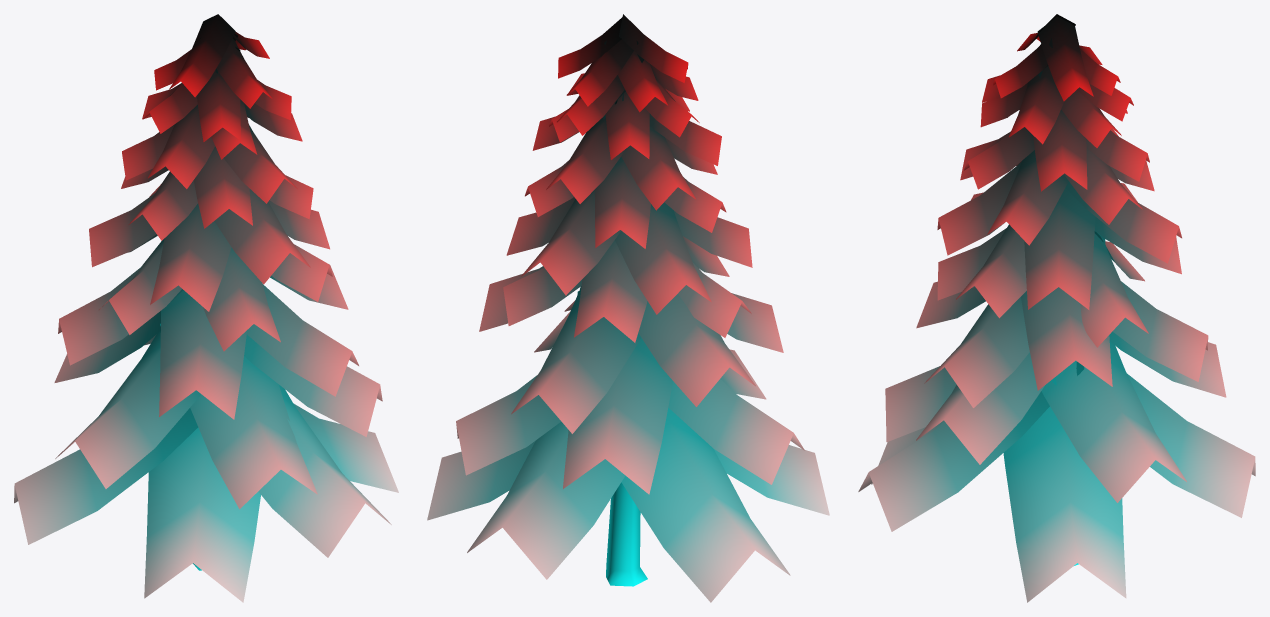
File: PineTree01.fbx
3 views of the same model, side by side, from view 1: azimuth 30°, elevation 25°; view 2: azimuth 150°, elevation 25°; view 3: azimuth 270°, elevation 25° (orthographic). The views are drawn at different scales.
Parts seen in each view (by area): view 1: PineTree01_LOD0; view 2: PineTree01_LOD0; view 3: PineTree01_LOD0.
Part boxes in pixels (bbox=[...]): PineTree01_LOD0: bbox=[14, 14, 398, 602]; PineTree01_LOD0: bbox=[427, 14, 829, 602]; PineTree01_LOD0: bbox=[858, 14, 1255, 602].
Bounding box in the file's own units: 415 × 633 × 415.
